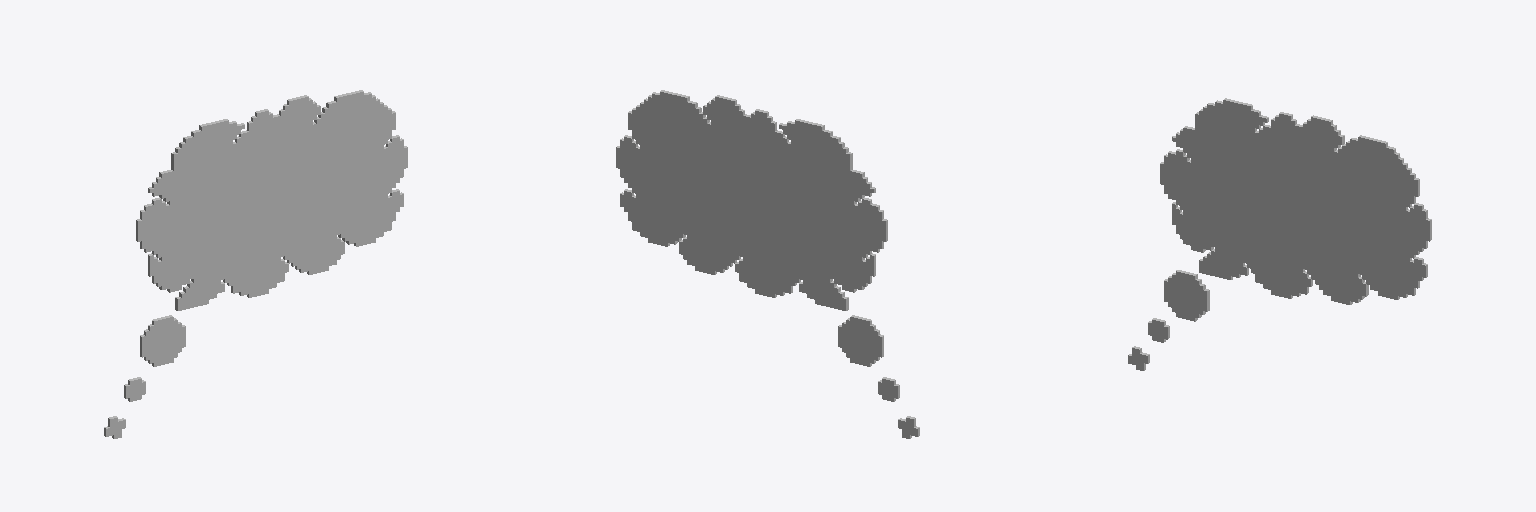
File: Balloon.obj
The picture shows the model from 3 angles: view 1: azimuth 30°, elevation 25°; view 2: azimuth 150°, elevation 25°; view 3: azimuth 330°, elevation 25°; orthographic projection.
Parts seen in each view (by area): view 1: Balloon; view 2: Balloon; view 3: Balloon.
Part boxes in pixels (x1,y1,x2,y2): Balloon: (104, 90, 407, 438); Balloon: (616, 90, 919, 438); Balloon: (1128, 98, 1431, 370).
Bounding box in the file's own units: 76 × 71 × 1.